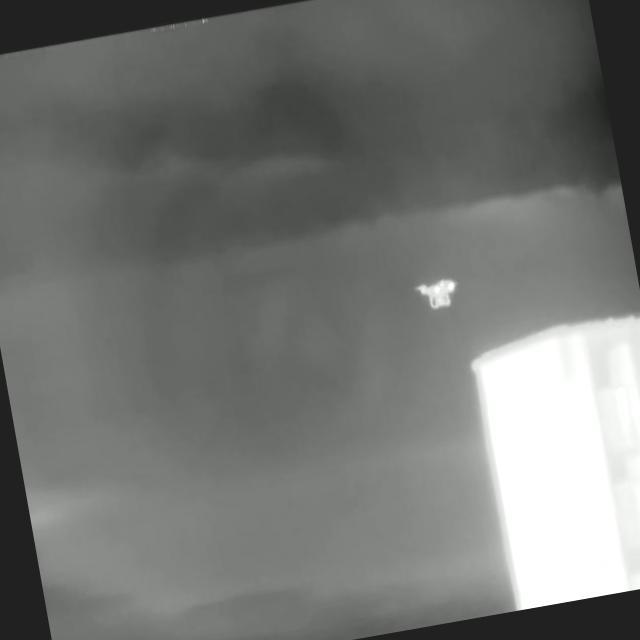DRONE: (406, 275, 469, 311)
